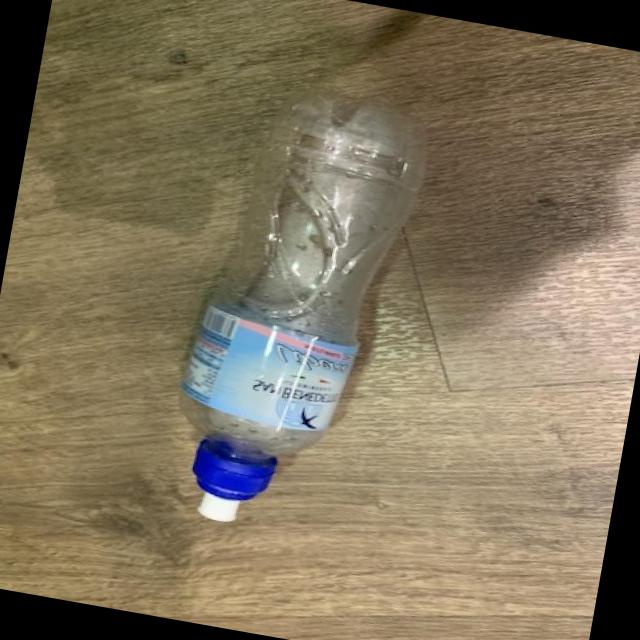plastic_bottle: (157, 74, 436, 545)
